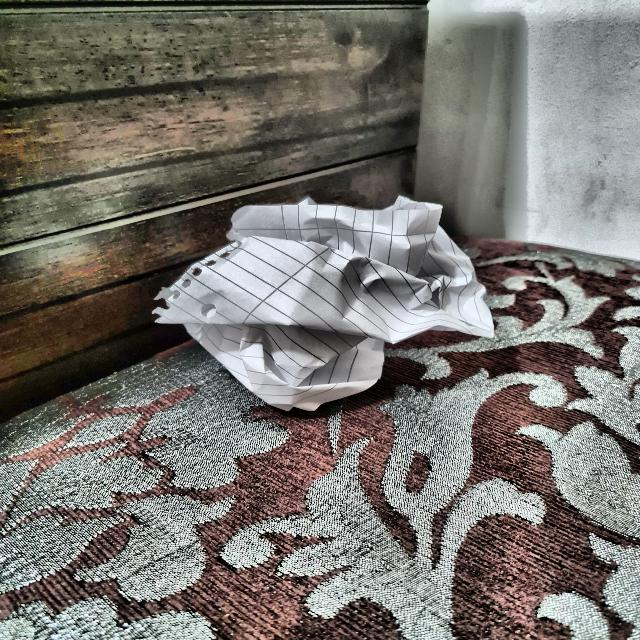Paper: (151, 197, 496, 413)
